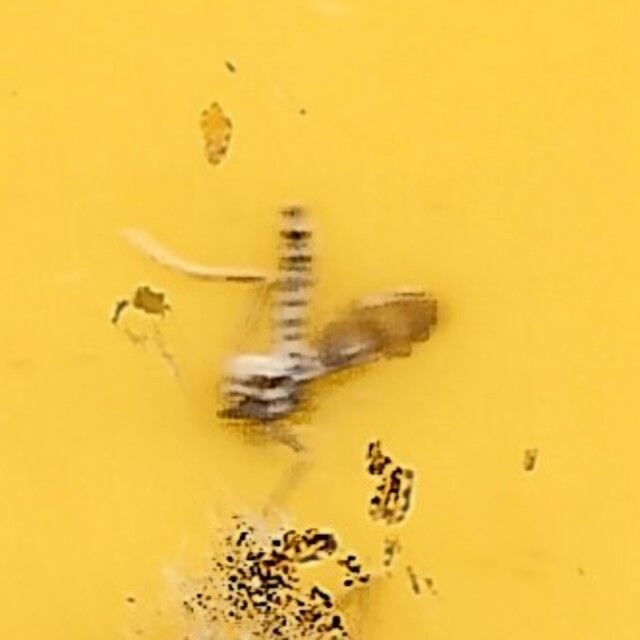Nematocera: (193, 199, 447, 441)
